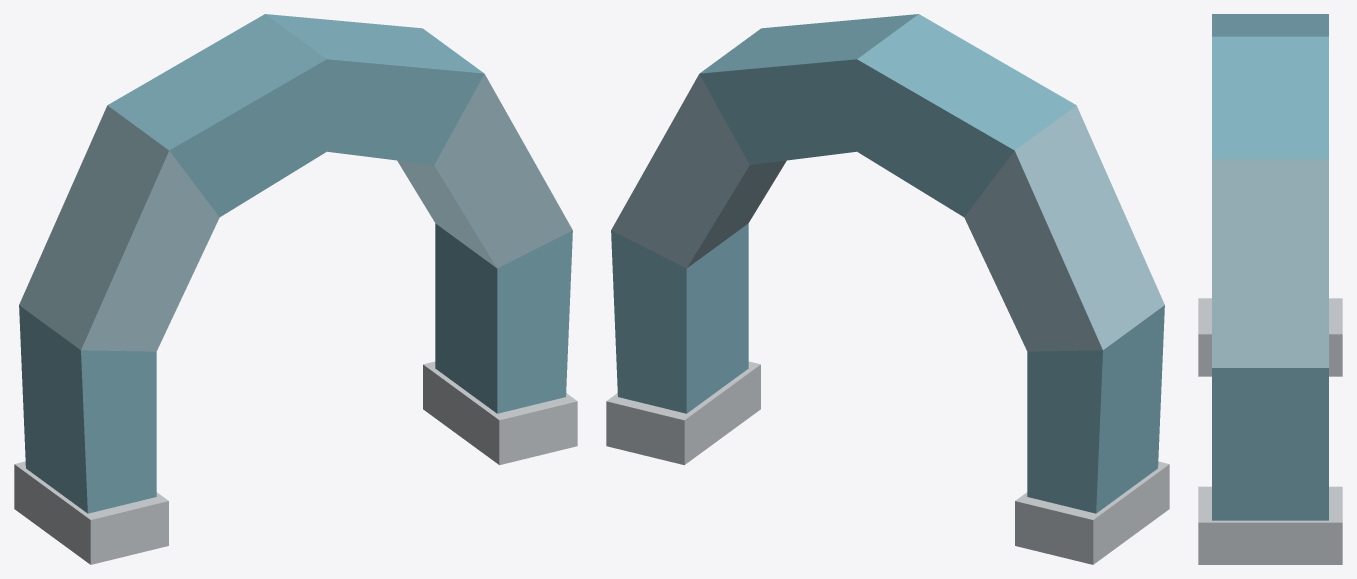
The model's file is Frosty_IceArch_Standard.glb.
The picture shows the model from 3 angles, left to right: view 1: azimuth 30°, elevation 25°; view 2: azimuth 150°, elevation 25°; view 3: azimuth 270°, elevation 25°; orthographic projection. The views are drawn at different scales.
Parts seen in each view (by area): view 1: Frosty_IceArch_Standard; view 2: Frosty_IceArch_Standard; view 3: Frosty_IceArch_Standard.
Boxes of the visible parts, left/top/right/bottom form: Frosty_IceArch_Standard: left=14, top=14, right=577, bottom=564; Frosty_IceArch_Standard: left=606, top=14, right=1169, bottom=564; Frosty_IceArch_Standard: left=1198, top=14, right=1342, bottom=564.
Size of the model in its own units: 3.9 by 3.35 by 1.05.
